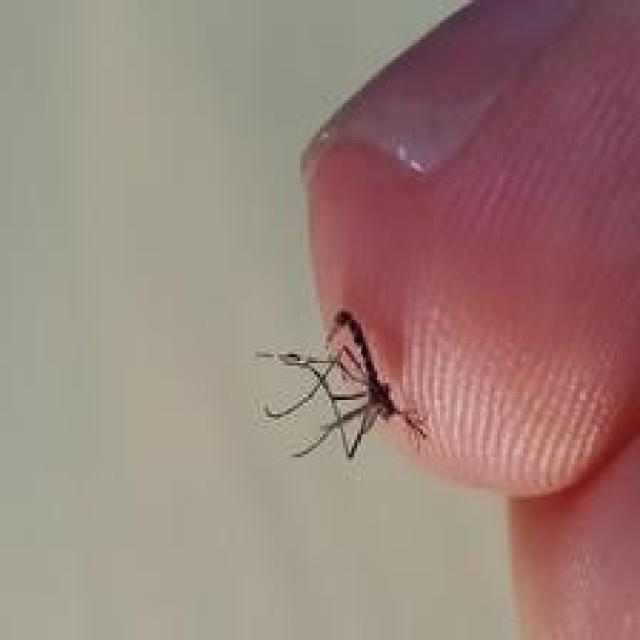Aedes albopictus: (253, 307, 430, 462)
